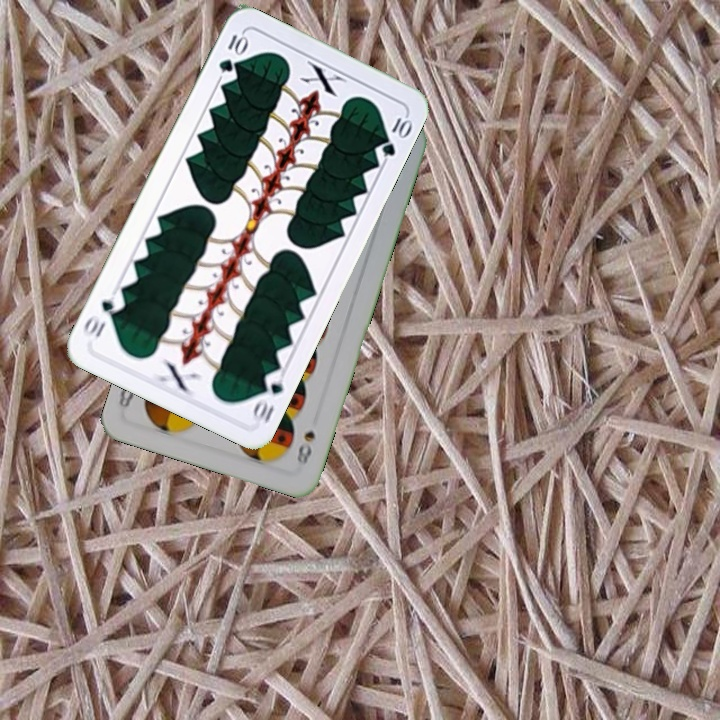G10: (249, 366, 287, 426), (214, 29, 250, 75)
S8: (292, 426, 318, 468)
